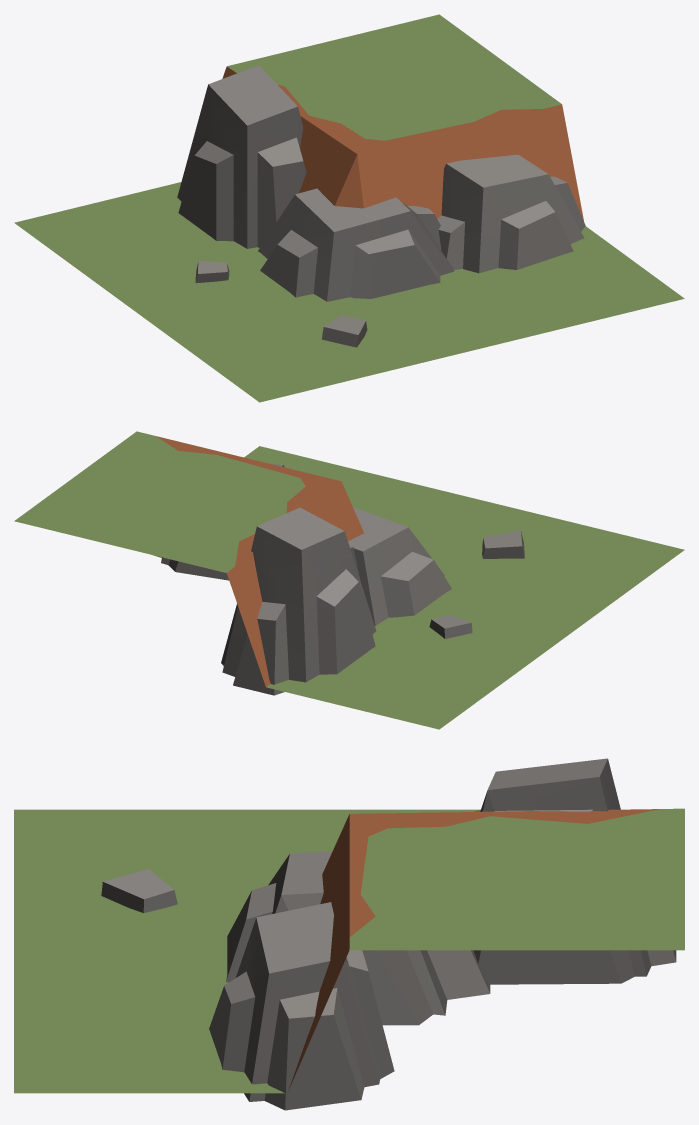
Rendered from SA_Env_HillTile_Corner_01.gltf.
3 renders of one model, top to bottom at view 1: azimuth 30°, elevation 25°; view 2: azimuth 150°, elevation 25°; view 3: azimuth 270°, elevation 25°, orthographic. The views are drawn at different scales.
Visible parts, largest first — view 1: SA_Env_HillTile_Corner_01; view 2: SA_Env_HillTile_Corner_01; view 3: SA_Env_HillTile_Corner_01.
Boxes of the visible parts, bbox=[...] form: SA_Env_HillTile_Corner_01: bbox=[14, 14, 684, 402]; SA_Env_HillTile_Corner_01: bbox=[14, 431, 684, 729]; SA_Env_HillTile_Corner_01: bbox=[14, 758, 684, 1110].
Bounding box in the file's own units: 15.15 × 4.7 × 15.
1 material, 1 textured.
